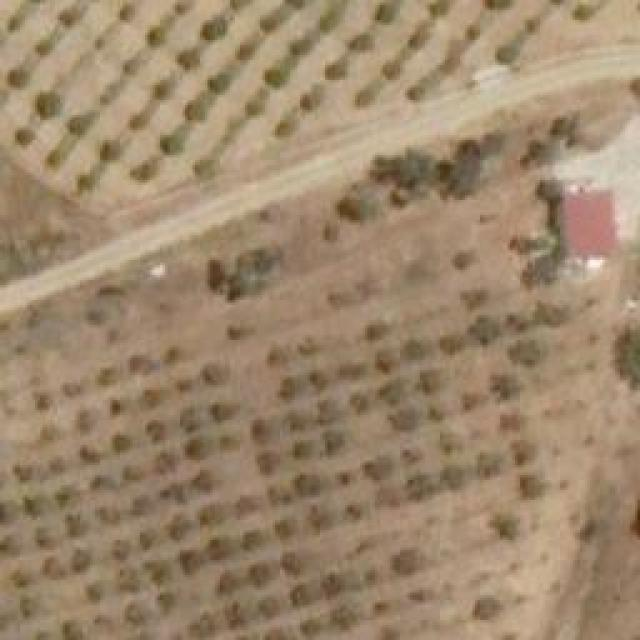Tree: (373, 147, 436, 202), (220, 245, 284, 298), (433, 142, 486, 198), (616, 325, 640, 386), (335, 190, 378, 223), (468, 318, 501, 343), (200, 15, 228, 43), (245, 557, 273, 585), (490, 518, 520, 541), (510, 343, 538, 366), (487, 375, 515, 398), (155, 135, 180, 160), (508, 438, 533, 463), (473, 595, 498, 620), (143, 25, 168, 48), (185, 100, 210, 123), (263, 65, 288, 88), (373, 0, 396, 25), (35, 93, 58, 118), (293, 473, 318, 496), (185, 433, 208, 458), (475, 455, 500, 478), (208, 535, 233, 558), (165, 515, 190, 538), (305, 505, 328, 530), (187, 617, 212, 640), (378, 60, 404, 82), (208, 73, 231, 96), (365, 455, 388, 478), (338, 360, 361, 383), (30, 38, 53, 61), (95, 365, 118, 387), (457, 290, 485, 308), (248, 418, 268, 443), (438, 465, 463, 485), (388, 408, 413, 428), (85, 580, 105, 605), (5, 15, 26, 37), (178, 48, 201, 68), (150, 80, 173, 100), (70, 113, 90, 136), (395, 550, 415, 573), (210, 400, 230, 423), (178, 410, 198, 433), (438, 430, 461, 450), (198, 505, 221, 525), (245, 525, 265, 548), (280, 550, 300, 573), (130, 355, 153, 375), (160, 483, 183, 503), (15, 598, 38, 618), (120, 570, 140, 593), (80, 443, 100, 466), (125, 115, 148, 133), (270, 117, 293, 135), (400, 85, 423, 103), (10, 65, 28, 88), (403, 340, 426, 358), (203, 365, 226, 383), (195, 472, 218, 490), (258, 595, 281, 613), (145, 420, 163, 443), (375, 353, 393, 376), (45, 558, 63, 581), (22, 498, 40, 521), (268, 485, 291, 503), (573, 3, 593, 23), (495, 45, 515, 65), (118, 3, 138, 23), (350, 33, 370, 53), (100, 140, 120, 160), (235, 40, 255, 60), (288, 413, 308, 433), (520, 475, 540, 495), (383, 380, 403, 400), (418, 370, 438, 390), (68, 548, 88, 568), (63, 515, 83, 535), (98, 505, 118, 525), (215, 575, 235, 595), (223, 605, 243, 625), (148, 563, 168, 583), (133, 162, 153, 180), (325, 60, 345, 78), (300, 90, 320, 108), (15, 127, 35, 145), (280, 378, 298, 398), (267, 345, 285, 365), (455, 248, 473, 268), (367, 320, 385, 340), (348, 392, 368, 410), (255, 457, 275, 475), (178, 550, 198, 568), (238, 495, 258, 513), (325, 430, 343, 450), (275, 517, 295, 535), (400, 445, 418, 465), (155, 453, 173, 473), (122, 463, 140, 483), (332, 605, 350, 625), (302, 615, 320, 635), (10, 568, 28, 588), (45, 455, 65, 473), (375, 487, 395, 505), (45, 148, 63, 168), (440, 338, 463, 353), (325, 575, 340, 598), (257, 15, 275, 33), (407, 477, 425, 495), (92, 475, 110, 493), (62, 622, 80, 640), (130, 497, 148, 515), (217, 432, 235, 450), (35, 530, 53, 548), (52, 487, 70, 505), (37, 427, 55, 445), (15, 462, 33, 480), (77, 175, 95, 193), (175, 0, 195, 15), (290, 443, 310, 458), (430, 0, 448, 15), (242, 100, 260, 115), (63, 7, 78, 25), (460, 393, 478, 408), (502, 413, 520, 428), (128, 602, 143, 620), (345, 502, 360, 520), (335, 467, 350, 485), (78, 410, 93, 428), (137, 530, 155, 545), (298, 340, 313, 358), (310, 372, 325, 390), (380, 625, 398, 640), (158, 592, 173, 610), (113, 435, 128, 450), (318, 403, 333, 418), (373, 600, 388, 615), (35, 395, 50, 410)
